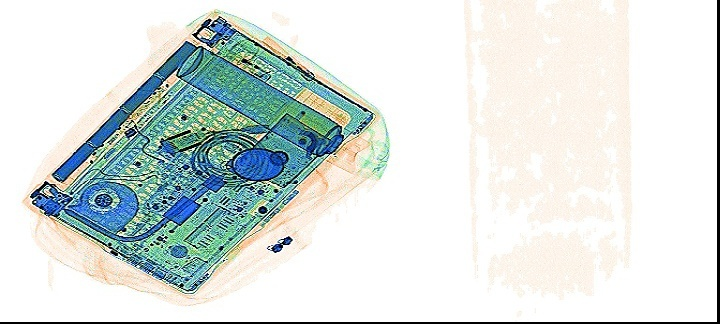lighter: (259, 33, 315, 81), (220, 46, 271, 84)
pressure: (175, 44, 371, 175)
